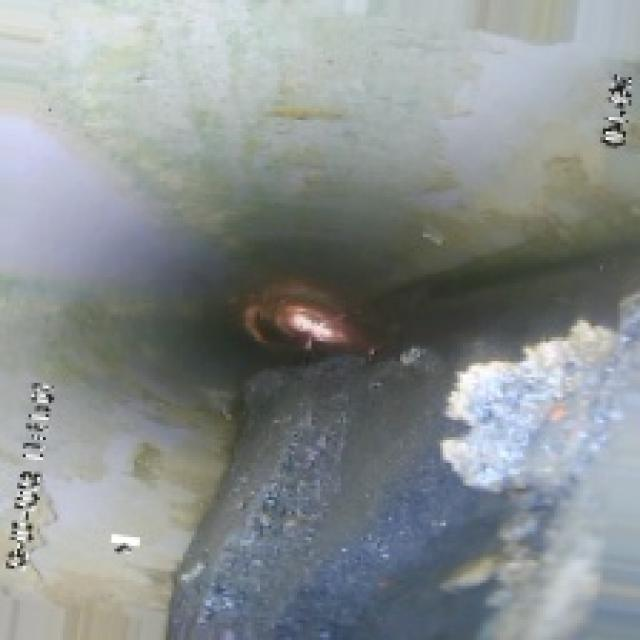sluge accumulation: (246, 332, 617, 632)
